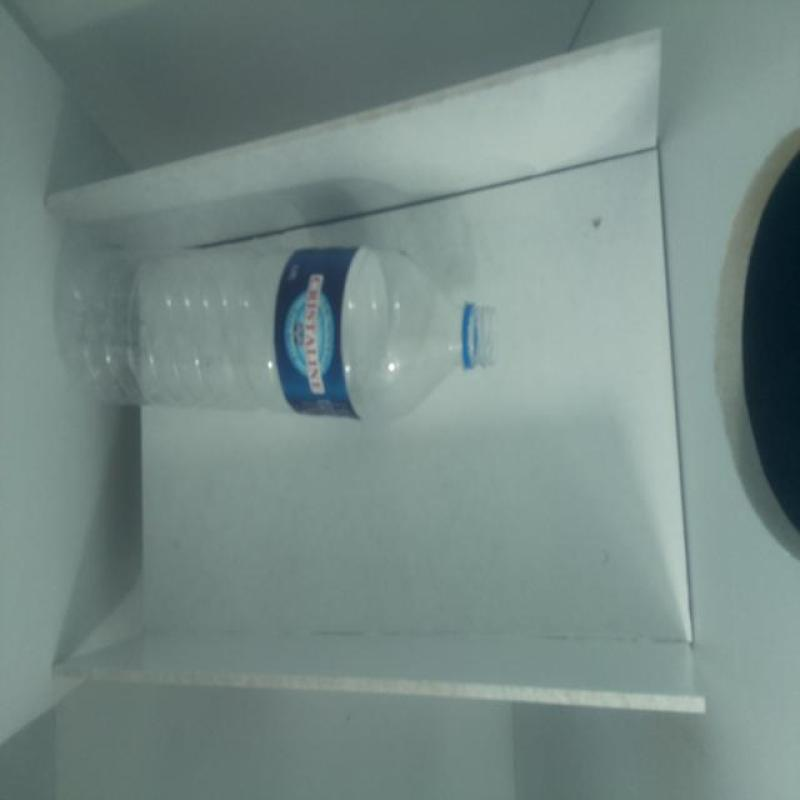botella: (70, 245, 498, 420)
